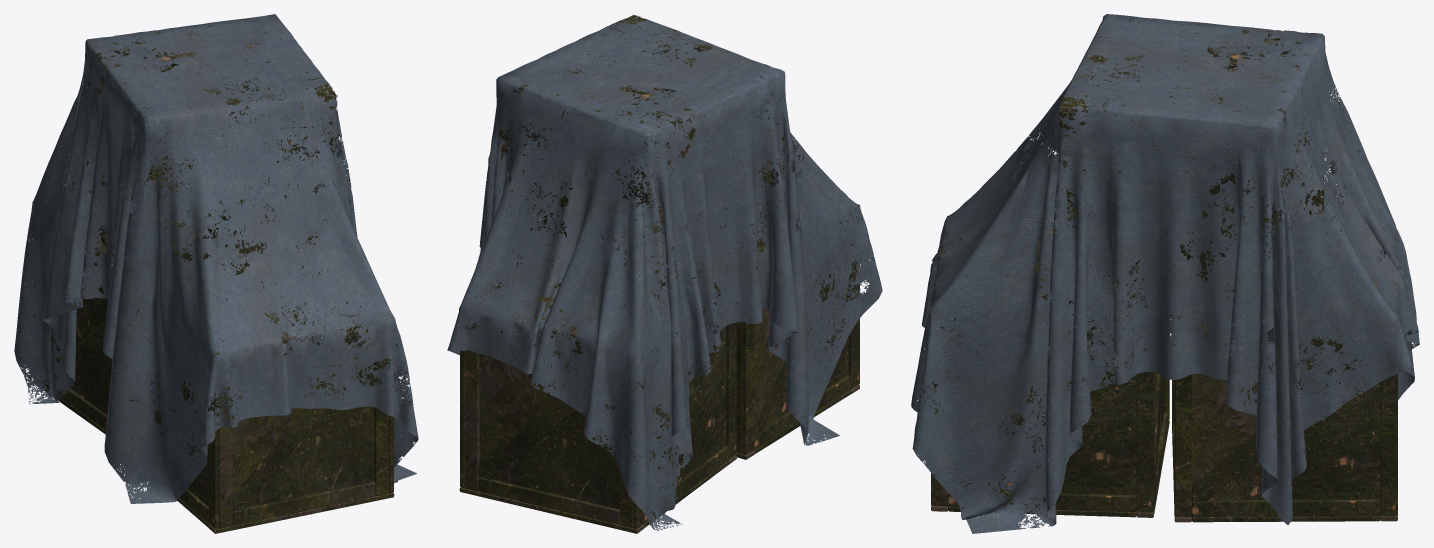
File: SM_Box_fabric_3_01.fbx
The picture shows the model from 3 angles, left to right: view 1: azimuth 30°, elevation 25°; view 2: azimuth 150°, elevation 25°; view 3: azimuth 270°, elevation 25°; orthographic projection. The views are drawn at different scales.
Parts seen in each view (by area): view 1: SM_Box_fabric_3_01_LOD0; view 2: SM_Box_fabric_3_01_LOD0; view 3: SM_Box_fabric_3_01_LOD0.
Boxes of the visible parts, x1,y1,x2,y2 form: SM_Box_fabric_3_01_LOD0: [14, 14, 418, 533]; SM_Box_fabric_3_01_LOD0: [447, 14, 882, 533]; SM_Box_fabric_3_01_LOD0: [911, 14, 1419, 533].
Bounding box in the file's own units: 125 × 182 × 161.
3 materials, 3 textured.
